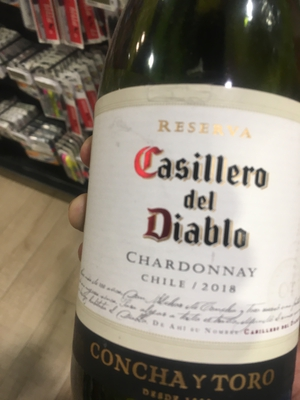casillero del diablo chardonnay: (66, 33, 300, 387)
